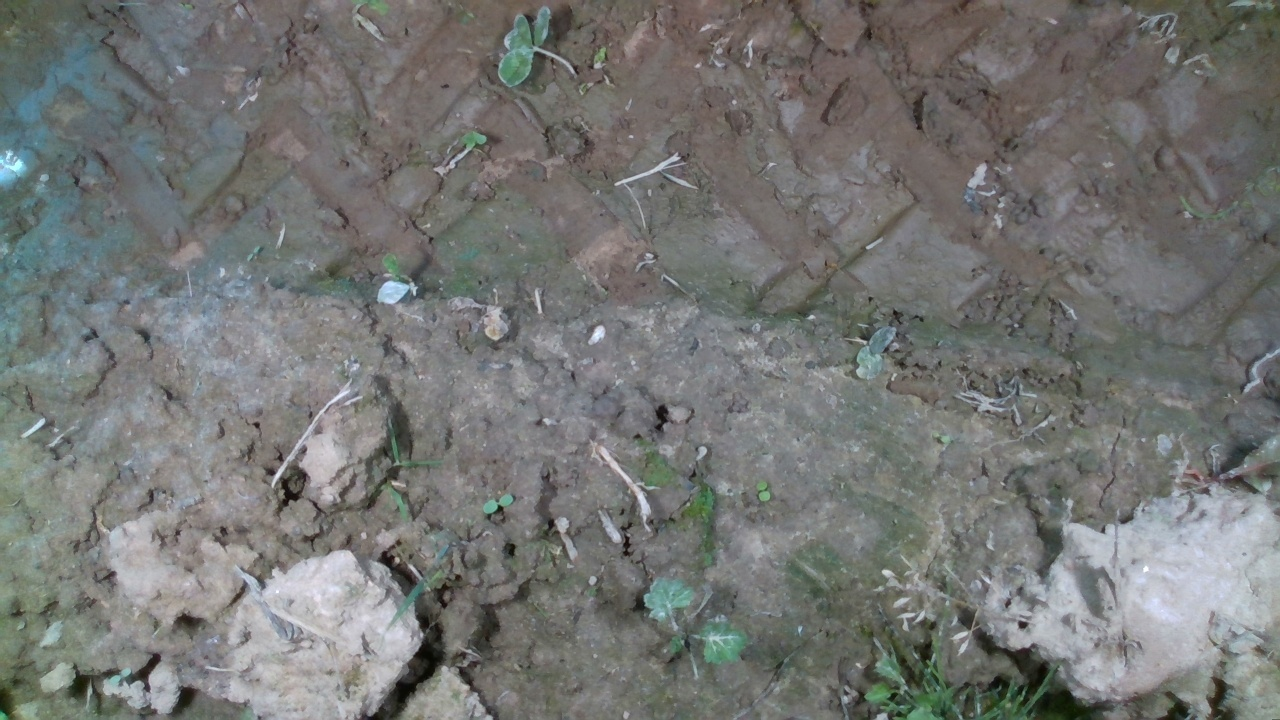weed: (481, 492, 514, 514), (755, 478, 770, 503)
